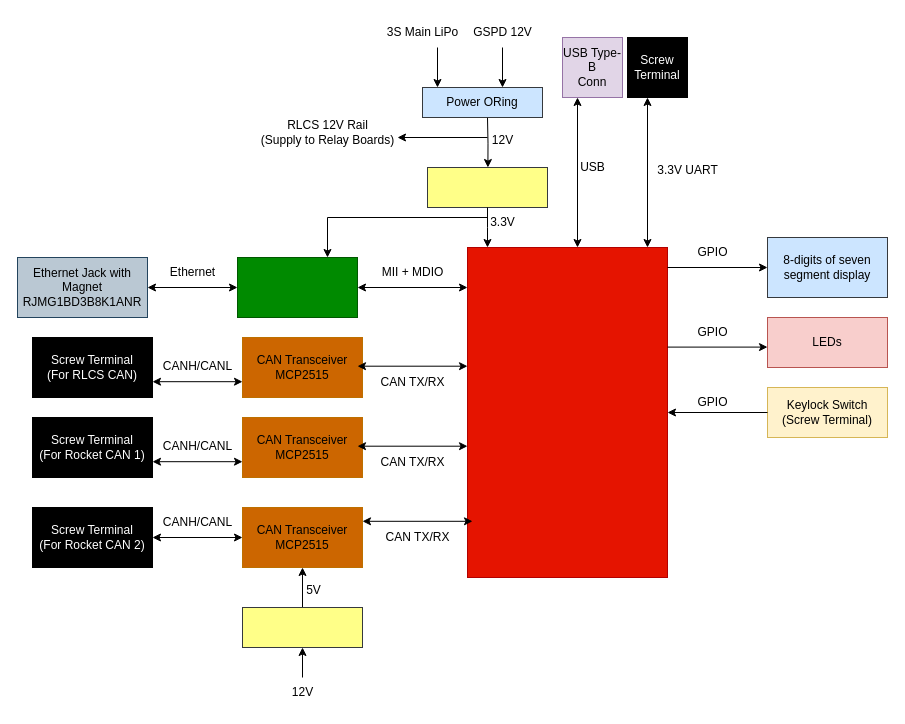
Some shapes in this 905 by 724 pixel diagram are drawn without their labels. The centre of each missing label's shape, as x and y in pixels:
12V -> 3V3 Buck: [487,187]
12V -> 5V LDO: [302,627]
Ethernet PHY KSZ8001: [297,287]
Micro-Controller STM32H753ZIT6: [567,412]
